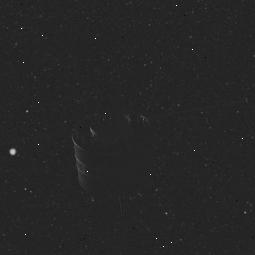double_start: (61, 97, 164, 199)
